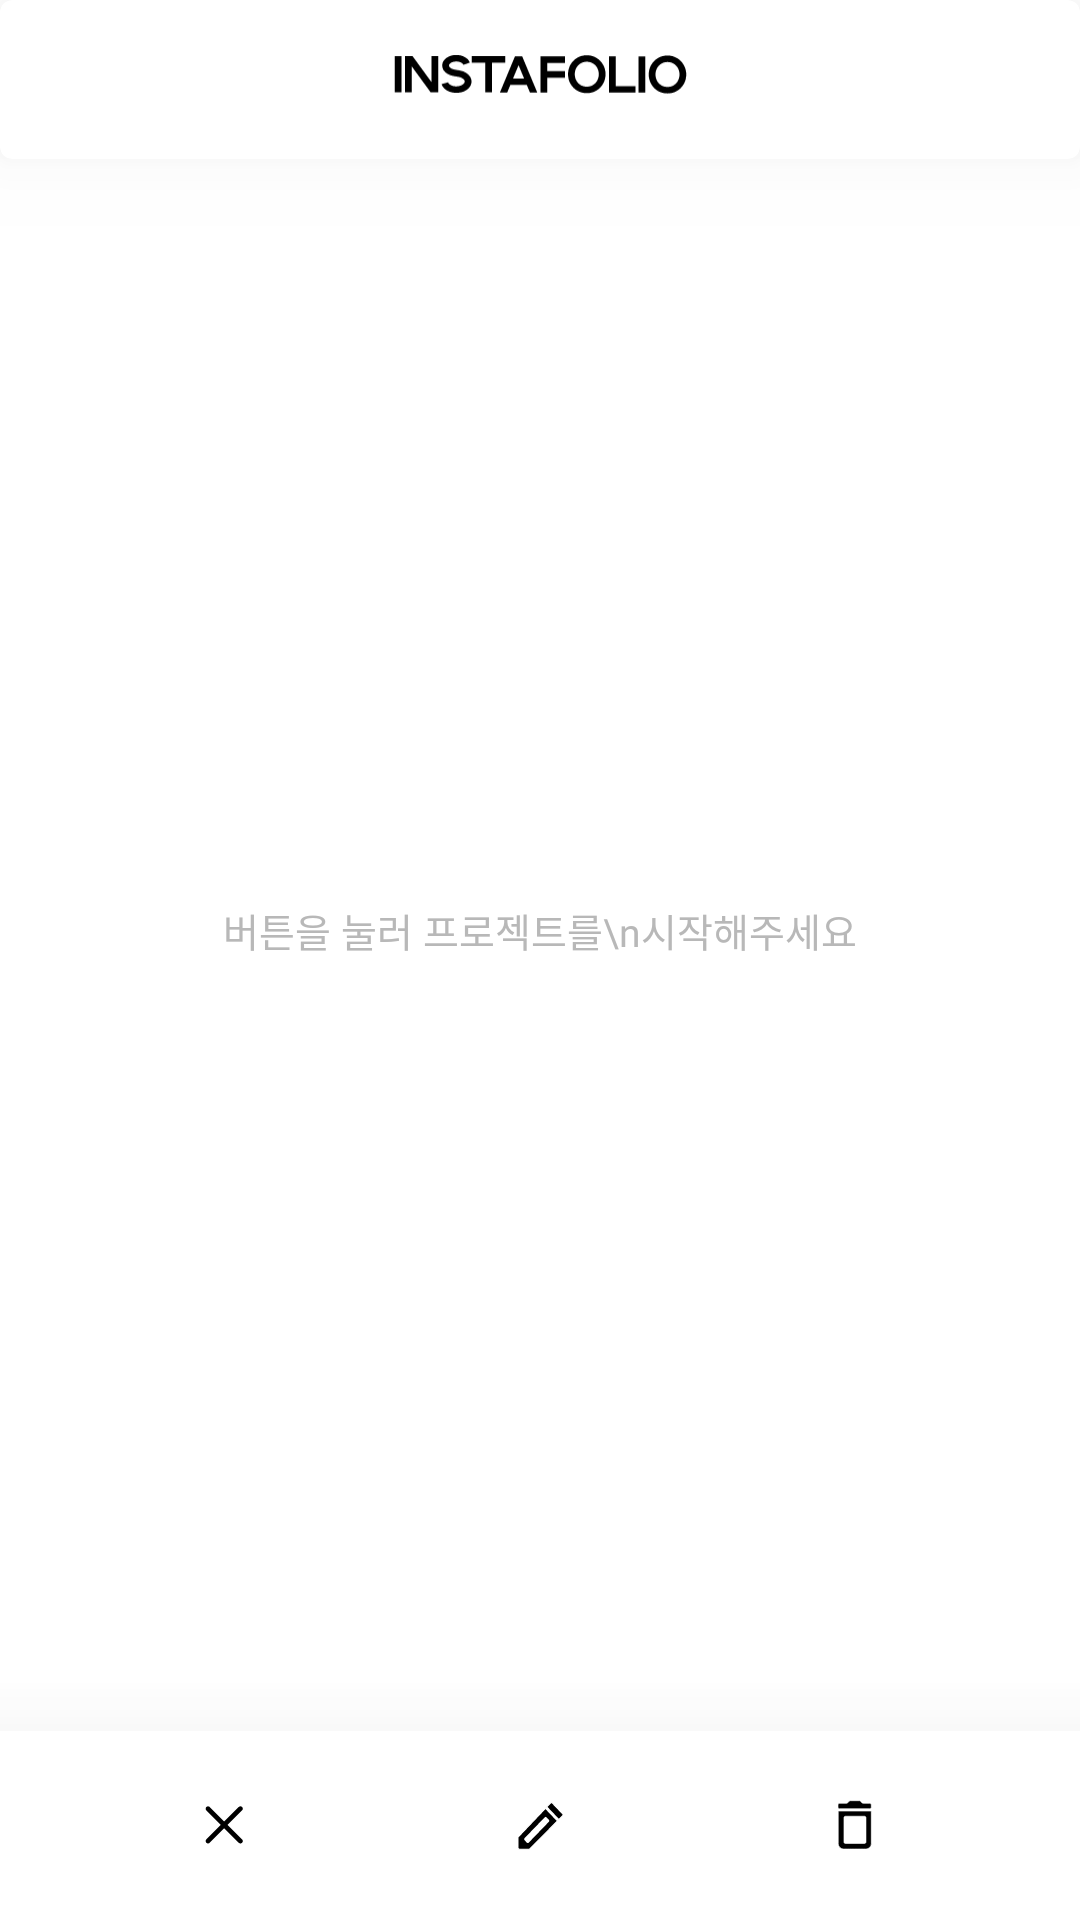

Icons on this 1080 × 1920 Android screen, each with its box as (x1, y1, x2, y2):
cancel: (205, 1806, 243, 1844)
delete: (838, 1800, 872, 1849)
